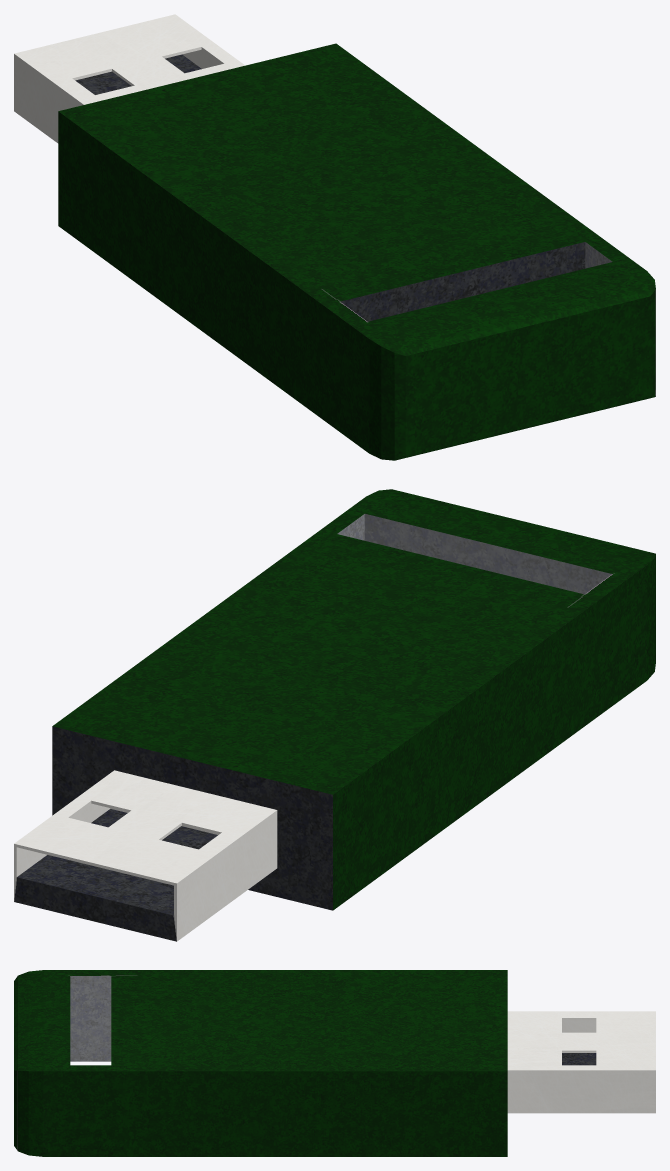
The model's file is FlashDrive_NEA.gltf.
The picture shows the model from 3 angles, top to bottom: view 1: azimuth 30°, elevation 25°; view 2: azimuth 150°, elevation 25°; view 3: azimuth 270°, elevation 25°; orthographic projection. The views are drawn at different scales.
Visible parts, largest first — view 1: Cube.001; view 2: Cube.001; view 3: Cube.001.
Boxes of the visible parts, left/top/right/bottom form: Cube.001: left=14, top=14, right=655, bottom=460; Cube.001: left=14, top=489, right=655, bottom=941; Cube.001: left=14, top=970, right=655, bottom=1156.
Bounding box in the file's own units: 0.7 × 0.2761 × 1.88.
1 material, 1 textured.
